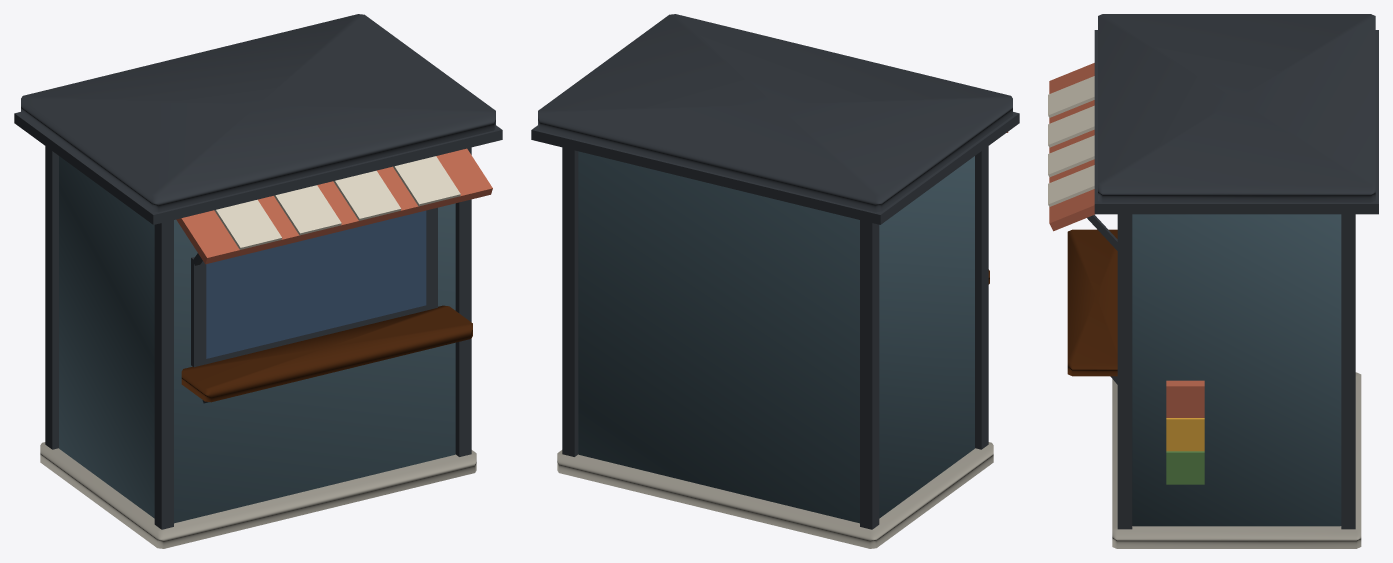
Rendered from newsstand-kiosk.glb.
3 views of the same model, side by side, from view 1: azimuth 30°, elevation 25°; view 2: azimuth 150°, elevation 25°; view 3: azimuth 270°, elevation 25° (orthographic). The views are drawn at different scales.
Visible parts, largest first — view 1: Merged_city-metal-dark, Merged_prop-body, Merged_city-glass-surface, Merged_city-timber, Merged_city-curb, Merged_prop-body-light-surface, Merged_prop-accent; view 2: Merged_prop-body, Merged_city-metal-dark, Merged_city-curb; view 3: Merged_city-metal-dark, Merged_prop-body, Merged_city-curb, Merged_city-timber, Merged_prop-body-light-surface, Merged_prop-accent, Merged_city-foliage, Merged_city-warning.
Part boxes in pixels (x1,y1,x2,y2): Merged_city-metal-dark: [14, 14, 502, 529]; Merged_prop-body: [59, 156, 455, 523]; Merged_city-glass-surface: [206, 210, 426, 358]; Merged_city-timber: [181, 305, 472, 402]; Merged_city-curb: [40, 442, 476, 548]; Merged_prop-body-light-surface: [214, 156, 460, 249]; Merged_prop-accent: [176, 148, 492, 264]; Merged_prop-body: [578, 151, 974, 523]; Merged_city-metal-dark: [531, 14, 1019, 529]; Merged_city-curb: [557, 442, 993, 548]; Merged_city-metal-dark: [1087, 14, 1378, 529]; Merged_prop-body: [1132, 214, 1341, 526]; Merged_city-curb: [1112, 372, 1361, 548]; Merged_city-timber: [1067, 229, 1117, 376]; Merged_prop-body-light-surface: [1048, 76, 1094, 206]; Merged_prop-accent: [1049, 63, 1204, 417]; Merged_city-foliage: [1166, 451, 1204, 484]; Merged_city-warning: [1166, 418, 1204, 451].
Size of what is drawn, in the model's own units: 2.58 by 2.56 by 2.07.
11 materials, 1 textured.
